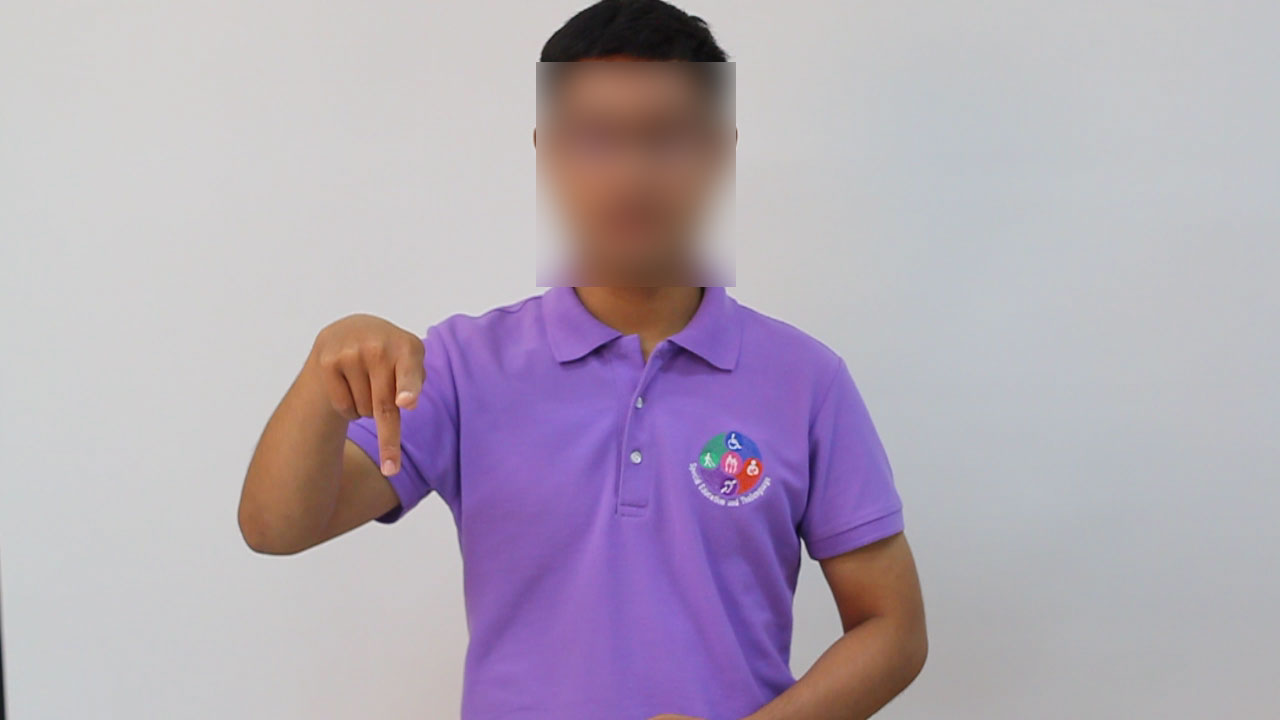por: (302, 288, 436, 486)
